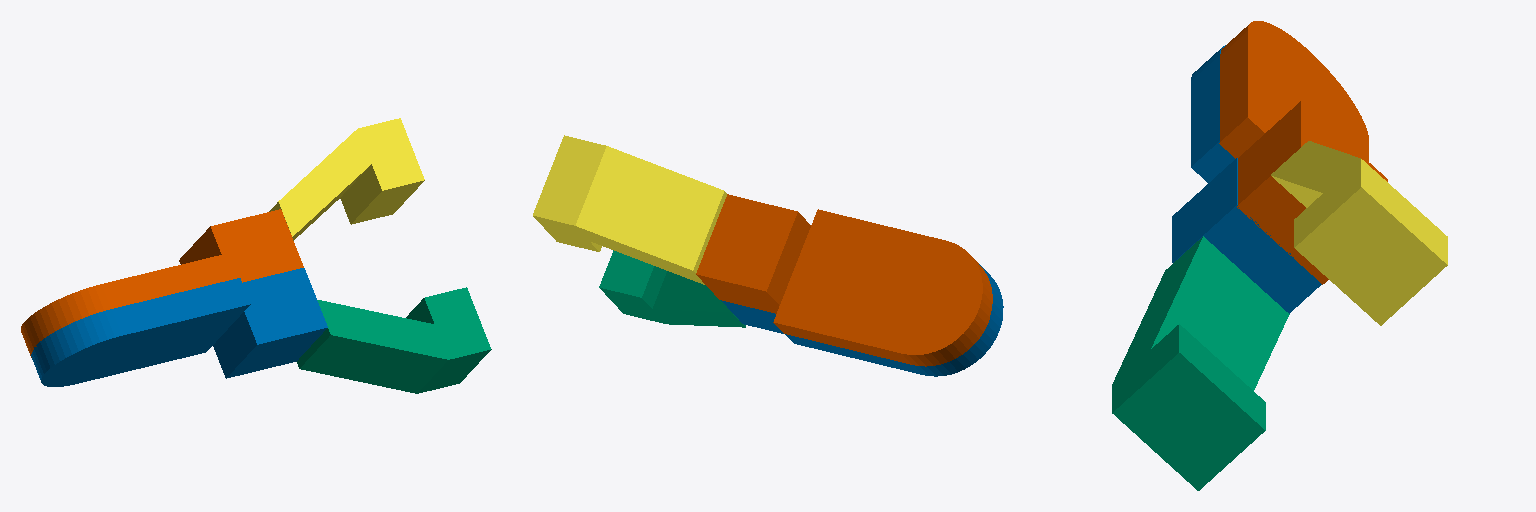
URDF robot description (panda):
<?xml version="1.0" ?>

<!-- =================================================================================== -->
<!-- |    This document was autogenerated by xacro from panda_arm.urdf.xacro           | -->
<!-- |    EDITING THIS FILE BY HAND IS NOT RECOMMENDED                                 | -->
<!-- =================================================================================== -->
<robot name="panda" xmlns:xacro="http://www.ros.org/wiki/xacro">
  <link name="panda_link0">
    <visual>
      <geometry>
        <mesh filename="meshes/visual/link0.dae"/>
      </geometry>
    </visual>
    <collision>
      <geometry>
        <mesh filename="meshes/collision/link0.stl"/>
      </geometry>
    </collision>
    <inertial>
        <mass value="3.06"/>
        <inertia ixx="0.3" ixy="0.0" ixz="0.0" iyy="0.3" iyz="0.0" izz="0.3"/>
      </inertial>
  </link>
  <link name="panda_link1">
    <visual>
      <geometry>
        <mesh filename="meshes/visual/link1.dae"/>
      </geometry>
    </visual>
    <collision>
      <geometry>
        <mesh filename="meshes/collision/link1.stl"/>
      </geometry>
    </collision>
    <inertial>
        <mass value="2.34"/>
        <inertia ixx="0.3" ixy="0.0" ixz="0.0" iyy="0.3" iyz="0.0" izz="0.3"/>
      </inertial>
  </link>
  <joint name="panda_joint1" type="revolute">
    <safety_controller k_position="100.0" k_velocity="40.0" soft_lower_limit="-2.8973" soft_upper_limit="2.8973"/>
    <origin rpy="0 0 0" xyz="0 0 0.333"/>
    <parent link="panda_link0"/>
    <child link="panda_link1"/>
    <axis xyz="0 0 1"/>
    <dynamics damping="1.0" />
    <limit effort="87" lower="-2.8973" upper="2.8973" velocity="2.1750"/>
  </joint>
  <link name="panda_link2">
    <visual>
      <geometry>
        <mesh filename="meshes/visual/link2.dae"/>
      </geometry>
    </visual>
    <collision>
      <geometry>
        <mesh filename="meshes/collision/link2.stl"/>
      </geometry>
    </collision>
    <inertial>
        <mass value="2.36"/>
        <inertia ixx="0.3" ixy="0.0" ixz="0.0" iyy="0.3" iyz="0.0" izz="0.3"/>
      </inertial>
  </link>
  <joint name="panda_joint2" type="revolute">
    <safety_controller k_position="100.0" k_velocity="40.0" soft_lower_limit="-1.7628" soft_upper_limit="1.7628"/>
    <origin rpy="-1.57079632679 0 0" xyz="0 0 0"/>
    <!-- <origin rpy="-1.57079632679 1.5 0" xyz="0 0 0"/> -->
    <parent link="panda_link1"/>
    <child link="panda_link2"/>
    <axis xyz="0 0 1"/>
    <dynamics damping="1.0" />
    <limit effort="87" lower="-1.7628" upper="1.7628" velocity="2.1750"/>
  </joint>
  <link name="panda_link3">
    <visual>
      <geometry>
        <mesh filename="meshes/visual/link3.dae"/>
      </geometry>
    </visual>
    <collision>
      <geometry>
        <mesh filename="meshes/collision/link3.stl"/>
      </geometry>
    </collision>
    <inertial>
        <mass value="2.38"/>
        <inertia ixx="0.3" ixy="0.0" ixz="0.0" iyy="0.3" iyz="0.0" izz="0.3"/>
      </inertial>

  </link>
  <joint name="panda_joint3" type="revolute">
    <safety_controller k_position="100.0" k_velocity="40.0" soft_lower_limit="-2.8973" soft_upper_limit="2.8973"/>
    <origin rpy="1.57079632679 0 0" xyz="0 -0.316 0"/>
    <parent link="panda_link2"/>
    <child link="panda_link3"/>
    <axis xyz="0 0 1"/>
    <dynamics damping="1.0" />
    <limit effort="87" lower="-2.8973" upper="2.8973" velocity="2.1750"/>
  </joint>
  <link name="panda_link4">
    <visual>
      <geometry>
        <mesh filename="meshes/visual/link4.dae"/>
      </geometry>
    </visual>
    <collision>
      <geometry>
        <mesh filename="meshes/collision/link4.stl"/>
      </geometry>
    </collision>
    <inertial>
      <mass value="2.43"/>
      <inertia ixx="0.3" ixy="0.0" ixz="0.0" iyy="0.3" iyz="0.0" izz="0.3"/>
      </inertial>
  </link>
  <joint name="panda_joint4" type="revolute">
    <safety_controller k_position="100.0" k_velocity="40.0" soft_lower_limit="-3.0718" soft_upper_limit="-0.0698"/>
    <origin rpy="1.57079632679 0 0" xyz="0.0825 0 0"/>
    <parent link="panda_link3"/>
    <child link="panda_link4"/>
    <axis xyz="0 0 1"/>
    <dynamics damping="1.0" />
    <limit effort="87" lower="-3.0718" upper="-0.0698" velocity="2.1750"/>
  </joint>
  <link name="panda_link5">
    <visual>
      <geometry>
        <mesh filename="meshes/visual/link5.dae"/>
      </geometry>
    </visual>
    <collision>
      <geometry>
        <mesh filename="meshes/collision/link5.stl"/>
      </geometry>
    </collision>
    <inertial>
        <mass value="3.5"/>
        <inertia ixx="0.3" ixy="0.0" ixz="0.0" iyy="0.3" iyz="0.0" izz="0.3"/>
      </inertial>
  </link>

  <joint name="panda_joint5" type="revolute">
    <safety_controller k_position="100.0" k_velocity="40.0" soft_lower_limit="-2.8973" soft_upper_limit="2.8973"/>
    <origin rpy="-1.57079632679 0 0" xyz="-0.0825 0.384 0"/>
    <parent link="panda_link4"/>
    <child link="panda_link5"/>
    <axis xyz="0 0 1"/>
    <dynamics damping="1.0" />
    <limit effort="12" lower="-2.8973" upper="2.8973" velocity="2.6100"/>
  </joint>
  <link name="panda_link6">
    <visual>
      <geometry>
        <mesh filename="meshes/visual/link6.dae"/>
      </geometry>
    </visual>
    <collision>
      <geometry>
        <mesh filename="meshes/collision/link6.stl"/>
      </geometry>
    </collision>
     <inertial>
        <mass value="1.47"/>
        <inertia ixx="0.3" ixy="0.0" ixz="0.0" iyy="0.3" iyz="0.0" izz="0.3"/>
      </inertial>
  </link>
  <joint name="panda_joint6" type="revolute">
    <safety_controller k_position="100.0" k_velocity="40.0" soft_lower_limit="-0.0175" soft_upper_limit="3.7525"/>
    <origin rpy="1.57079632679 0 0" xyz="0 0 0"/>
    <parent link="panda_link5"/>
    <child link="panda_link6"/>
    <axis xyz="0 0 1"/>
    <dynamics damping="1.0" />
    <limit effort="12" lower="-0.0175" upper="3.7525" velocity="2.6100"/>
  </joint>
  <link name="panda_link7">
    <visual>
      <geometry>
        <mesh filename="meshes/visual/link7.dae"/>
      </geometry>
    </visual>
    <collision>
      <geometry>
        <mesh filename="meshes/collision/link7.stl"/>
      </geometry>
    </collision>
    <inertial>
        <mass value="0.45"/>
        <inertia ixx="0.3" ixy="0.0" ixz="0.0" iyy="0.3" iyz="0.0" izz="0.3"/>
      </inertial>
  </link>
  <joint name="panda_joint7" type="revolute">
    <safety_controller k_position="100.0" k_velocity="40.0" soft_lower_limit="-2.8973" soft_upper_limit="2.8973"/>
    <origin rpy="1.57079632679 0 0" xyz="0.088 0 0"/>
    <parent link="panda_link6"/>
    <child link="panda_link7"/>
    <axis xyz="0 0 1"/>
    <dynamics damping="1.0" />
    <limit effort="12" lower="-2.8973" upper="2.8973" velocity="2.6100"/>
  </joint>
  <link name="panda_link8">
    <inertial>
      <mass value="0.001"/>
      <inertia ixx="0.3" ixy="0.0" ixz="0.0" iyy="0.3" iyz="0.0" izz="0.3"/>
      </inertial>
  </link>
  <joint name="panda_joint8" type="fixed">
    <origin rpy="0 0 0" xyz="0 0 0.107"/>
    <parent link="panda_link7"/>
    <child link="panda_link8"/>
    <axis xyz="0 0 0"/>
    <dynamics damping="100" />
  </joint>
  <joint name="panda_hand_joint" type="fixed">
    <parent link="panda_link8"/>
    <child link="panda_hand"/>
    <origin rpy="0 0 -0.785" xyz="0 0 0"/>
  </joint>
  <!-- <joint name="panda_hand_joint" type="revolute">
    <parent link="panda_link8"/>
    <child link="panda_hand"/>
    <origin rpy="0 0 0" xyz="0 0 0"/>
    <axis xyz="0 0 1"/>
    <limit effort="12" lower="-0.78" upper="-0.78" velocity="0.01"/>
  </joint> -->
  <link name="panda_hand">
    <visual>
      <geometry>
        <mesh filename="meshes/visual/hand.dae"/>
      </geometry>
    </visual>
    <collision>
      <geometry>
        <mesh filename="meshes/collision/hand.stl"/>
      </geometry>
    </collision>
     <inertial>
        <mass value="0.68"/>
        <inertia ixx="0.1" ixy="0.0" ixz="0.0" iyy="0.1" iyz="0.0" izz="0.1"/>
      </inertial>
  </link>

  <link name="panda_leftfinger_upper">
    <visual>
      <origin rpy="0 0 0" xyz="0 0 0"/>
      <geometry>
        <mesh filename="meshes/collision/finger_upper_v2.stl"/>
      </geometry>
    </visual>
    <collision>
      <origin rpy="0 0 0" xyz="0 0 0"/>
      <geometry>
        <mesh filename="meshes/collision/finger_upper_v2.stl"/>
      </geometry>
    </collision>
    <inertial>
        <mass value="0.01"/>
        <inertia ixx="0.1" ixy="0.0" ixz="0.0" iyy="0.1" iyz="0.0" izz="0.1"/>
      </inertial>
  </link>
  <link name="panda_rightfinger_upper">
    <visual>
      <origin rpy="0 0 3.14" xyz="0 0 0"/>
      <geometry>
        <mesh filename="meshes/collision/finger_upper_v2.stl"/>
      </geometry>
    </visual>
    <collision>
      <origin rpy="0 0 3.14" xyz="0 0 0"/>
      <geometry>
        <mesh filename="meshes/collision/finger_upper_v2.stl"/>
      </geometry>
    </collision>
    <inertial>
        <mass value="0.01"/>
        <inertia ixx="0.1" ixy="0.0" ixz="0.0" iyy="0.1" iyz="0.0" izz="0.1"/>
      </inertial>
  </link>
  <joint name="panda_finger_joint1" type="prismatic">
    <parent link="panda_hand"/>
    <child link="panda_leftfinger_upper"/>
    <origin rpy="0 0 0" xyz="0 0 0.065"/>
    <axis xyz="0 1 0"/>
    <limit effort="20" lower="0" upper="0.04" velocity="10"/>
  </joint>
  <joint name="panda_finger_joint2" type="prismatic">
    <parent link="panda_hand"/>
    <child link="panda_rightfinger_upper"/>
    <origin rpy="0 0 0" xyz="0 0 0.065"/>
    <axis xyz="0 -1 0"/>
    <limit effort="20" lower="0" upper="0.04" velocity="10"/>
    <mimic joint="panda_finger_joint1"/>
  </joint>

  <link name="panda_leftfinger_lower">
    <visual>
      <origin rpy="0 0 0" xyz="0 0 0.029"/>
      <geometry>
        <!-- <box size="0.018 0.015 0.108"/> -->
        <mesh filename="meshes/collision/franka_finger_lower_long.stl"/>
      </geometry>
    </visual>
    <collision>
      <origin rpy="0 0 0" xyz="0 0 0.029"/>
      <geometry>
        <mesh filename="meshes/collision/franka_finger_lower_long.stl"/>
        <!-- <box size="0.018 0.015 0.108"/> -->
      </geometry>
    </collision>
    <inertial>
        <mass value="0.01"/>
        <inertia ixx="0.1" ixy="0.0" ixz="0.0" iyy="0.1" iyz="0.0" izz="0.1"/>
      </inertial>
		<!-- <contact>
			<stiffness value="3000.0"/>
			<damping value="100.0"/>
		</contact> -->
  </link>
  <link name="panda_rightfinger_lower">
    <visual>
      <origin rpy="0 0 3.14" xyz="0 0 0.029"/>
      <geometry>
        <!-- <box size="0.018 0.015 0.108"/> -->
        <mesh filename="meshes/collision/franka_finger_lower_long.stl"/>
      </geometry>
    </visual>
    <collision>
      <origin rpy="0 0 3.14" xyz="0 0 0.029"/>
      <geometry>
        <mesh filename="meshes/collision/franka_finger_lower_long.stl"/>
        <!-- <box size="0.018 0.015 0.108"/> -->
      </geometry>
    </collision>
    <inertial>
        <mass value="0.01"/>
        <inertia ixx="0.1" ixy="0.0" ixz="0.0" iyy="0.1" iyz="0.0" izz="0.1"/>
      </inertial>
		<!-- <contact>
			<stiffness value="3000.0"/>
			<damping value="100.0"/>
		</contact> -->
  </link>
  <joint name="panda_finger_lower_joint1" type="fixed">
    <parent link="panda_leftfinger_upper"/>
    <child link="panda_leftfinger_lower"/>
    <origin rpy="0 0 0" xyz="0 0 0"/>
  </joint>
  <joint name="panda_finger_lower_joint2" type="fixed">
    <parent link="panda_rightfinger_upper"/>
    <child link="panda_rightfinger_lower"/>
    <origin rpy="0 0 0" xyz="0 0 0"/>
    <mimic joint="panda_finger_lower_joint1"/>
  </joint>
</robot>

--- What the picture shows (computed from the rendered views, not written in the file) ---
Views: 3 orthographic renders of the robot side by side, from view 1: azimuth 30°, elevation 25°; view 2: azimuth 150°, elevation 25°; view 3: azimuth 270°, elevation 25°.
Robot: panda — 14 links, 13 joints (7 revolute, 2 prismatic, 4 fixed); root link panda_link0; default pose: all joints at 0 but 1 set to mid-range because 0 is outside their limits (panda_joint4 = -1.57).
Links seen in each view (by area): view 1: panda_leftfinger_lower, panda_leftfinger_upper, panda_rightfinger_lower, panda_rightfinger_upper; view 2: panda_rightfinger_lower, panda_rightfinger_upper, panda_leftfinger_upper, panda_leftfinger_lower; view 3: panda_leftfinger_upper, panda_rightfinger_lower, panda_rightfinger_upper, panda_leftfinger_lower.
Boxes of the visible links, box(x1,y1,x2,y2) form: panda_leftfinger_lower: box(31, 268, 327, 386); panda_leftfinger_upper: box(297, 287, 491, 393); panda_rightfinger_lower: box(21, 209, 303, 357); panda_rightfinger_upper: box(269, 118, 424, 240); panda_rightfinger_lower: box(696, 194, 992, 366); panda_rightfinger_upper: box(533, 135, 726, 284); panda_leftfinger_upper: box(599, 250, 745, 327); panda_leftfinger_lower: box(721, 264, 1003, 376); panda_leftfinger_upper: box(1112, 236, 1289, 490); panda_rightfinger_lower: box(1219, 21, 1387, 284); panda_rightfinger_upper: box(1271, 141, 1447, 325); panda_leftfinger_lower: box(1172, 45, 1321, 313).
Bounding box of the posed robot: 0.0922 × 0.0495 × 0.0495 m (x, y, z).
4 mesh visuals loaded from 11 distinct referenced files (2 binary STL); not drawn: 9 (reference not matched to a file when rendering).